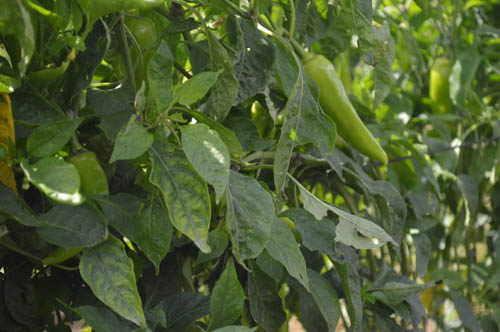ChiliPepper: (306, 57, 385, 165), (36, 153, 109, 267), (127, 22, 159, 77)
